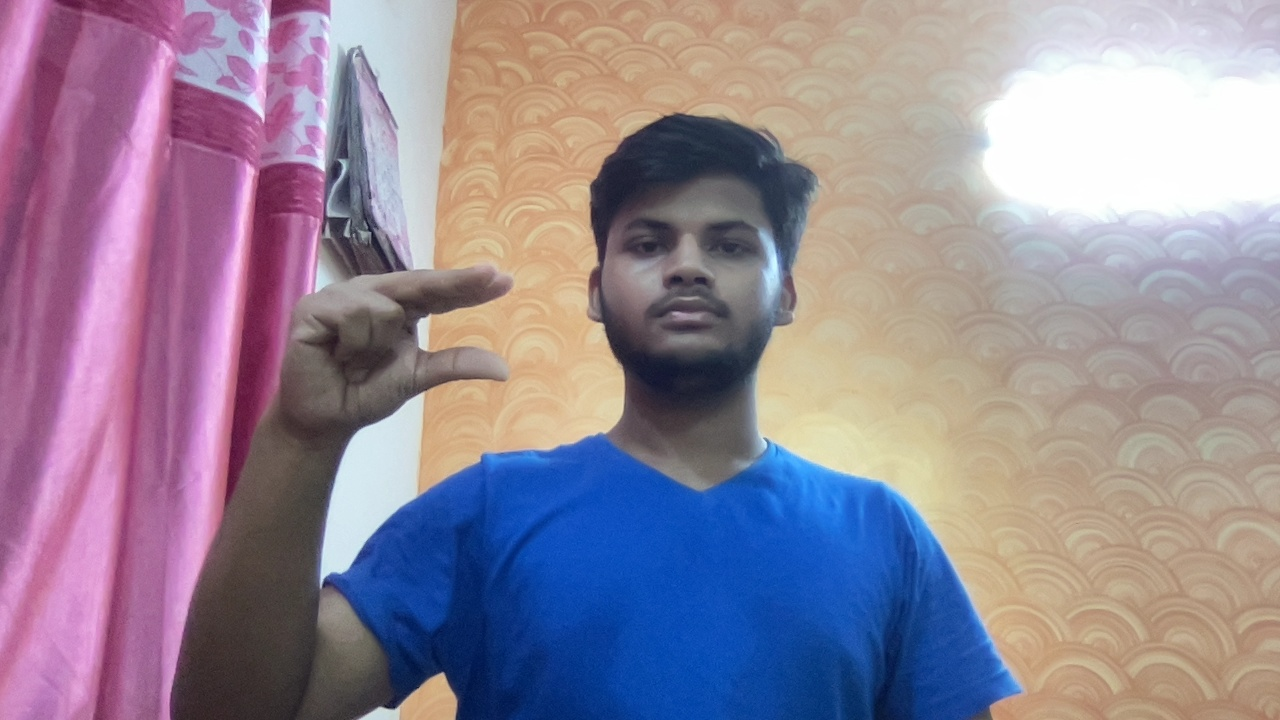no: (265, 236, 518, 451)
